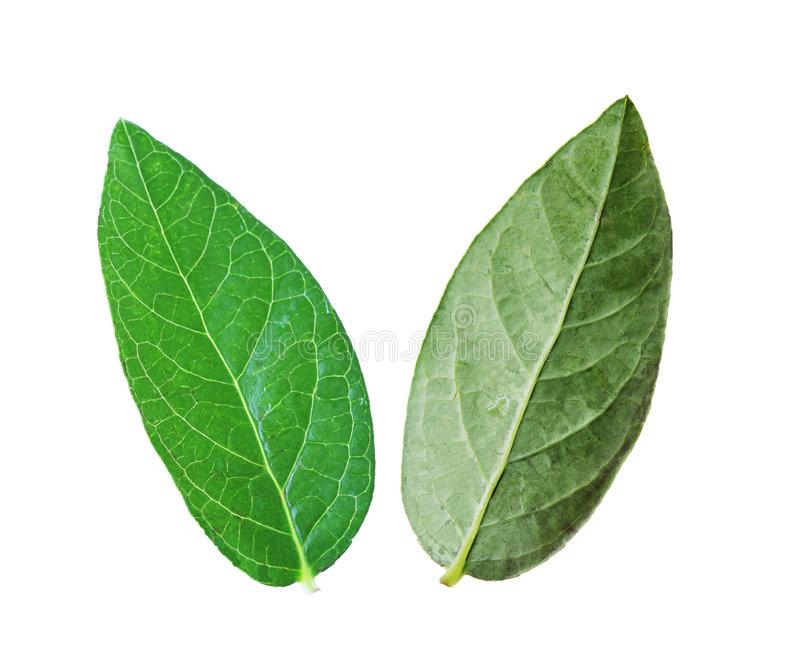Blueberry leaf: (80, 107, 387, 613), (393, 88, 689, 611)
